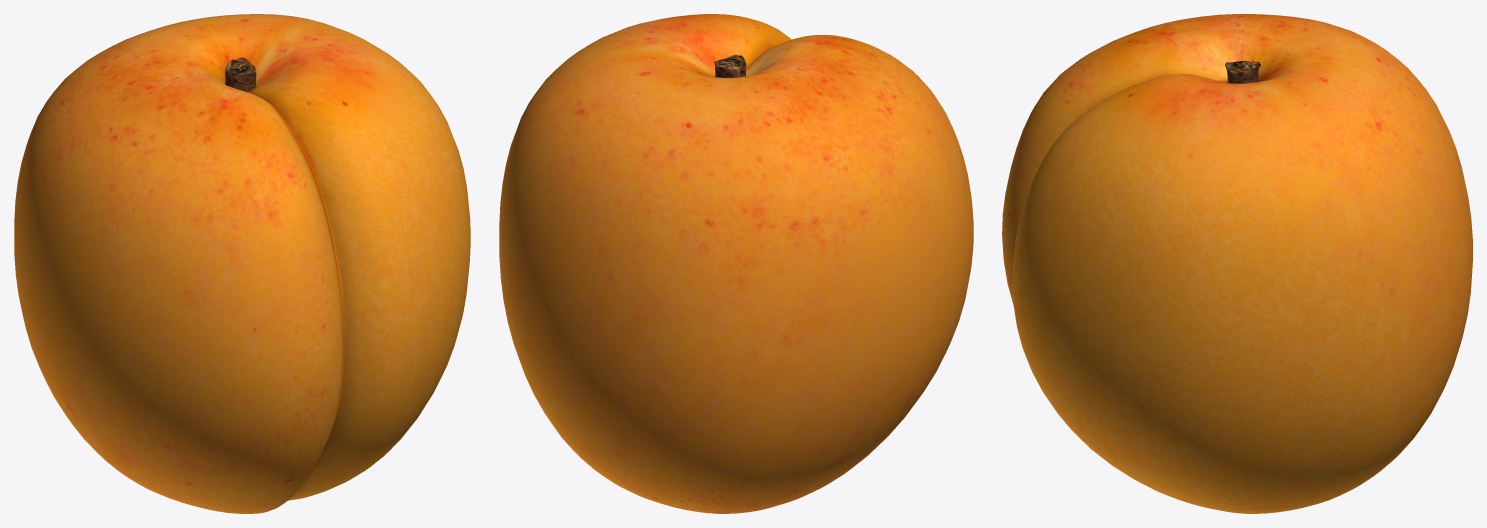
The model's file is peach2.glb.
The picture shows the model from 3 angles, left to right: view 1: azimuth 30°, elevation 25°; view 2: azimuth 150°, elevation 25°; view 3: azimuth 270°, elevation 25°; orthographic projection.
Parts seen in each view (by area): view 1: orange; view 2: orange; view 3: orange.
Boxes of the visible parts, x1=… form: orange: x1=14, y1=14, x2=470, y2=513; orange: x1=499, y1=14, x2=973, y2=513; orange: x1=1002, y1=14, x2=1472, y2=513.
Bounding box in the file's own units: 0.8683 × 0.9243 × 0.8915.
1 material, 1 textured.
